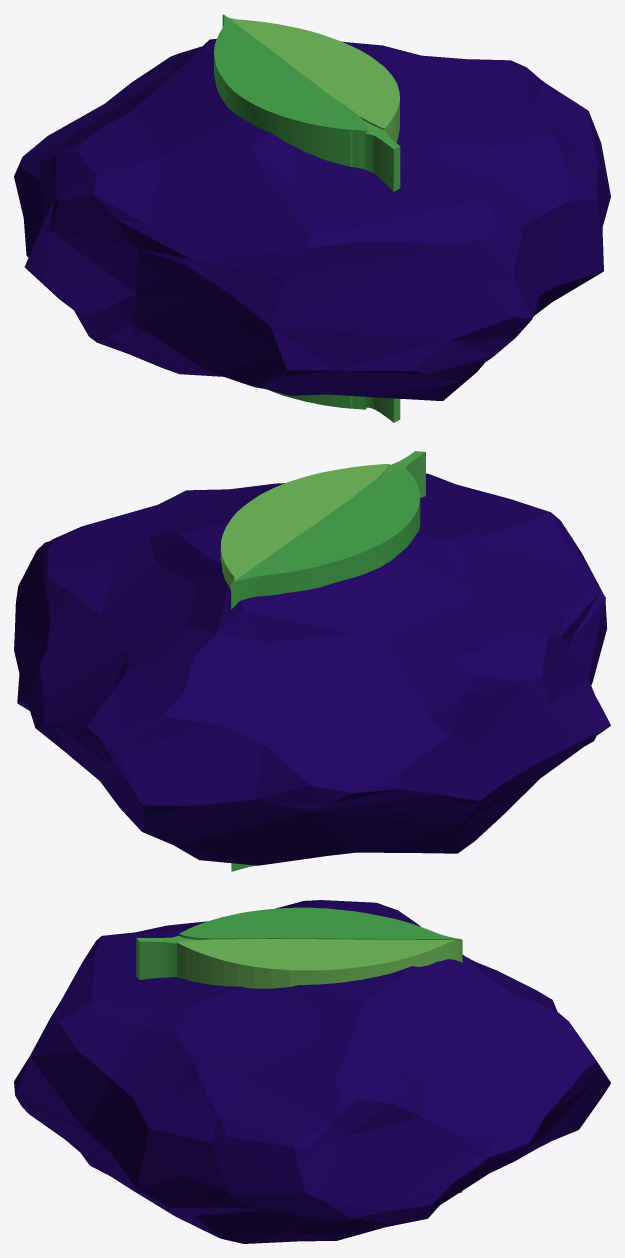
File: mongo.glb
The picture shows the model from 3 angles, top to bottom: view 1: azimuth 30°, elevation 25°; view 2: azimuth 150°, elevation 25°; view 3: azimuth 270°, elevation 25°; orthographic projection. The views are drawn at different scales.
Parts seen in each view (by area): view 1: Cube.007, Curve.001, Curve.002, Curve; view 2: Cube.007, Curve.001, Curve.002, Curve; view 3: Cube.007, Curve.002, Curve.001, Curve.
Boxes of the visible parts, bbox=[...] form: Cube.007: bbox=[14, 39, 610, 400]; Curve.001: bbox=[214, 14, 367, 409]; Curve.002: bbox=[222, 15, 399, 142]; Curve: bbox=[349, 120, 400, 422]; Cube.007: bbox=[14, 473, 610, 865]; Curve.001: bbox=[231, 468, 420, 871]; Curve.002: bbox=[220, 464, 389, 870]; Curve: bbox=[382, 451, 425, 497]; Cube.007: bbox=[14, 900, 610, 1243]; Curve.002: bbox=[176, 938, 462, 1191]; Curve.001: bbox=[179, 907, 461, 1192]; Curve: bbox=[136, 936, 197, 979].
Bounding box in the file's own units: 2 × 0.9562 × 2.04.
